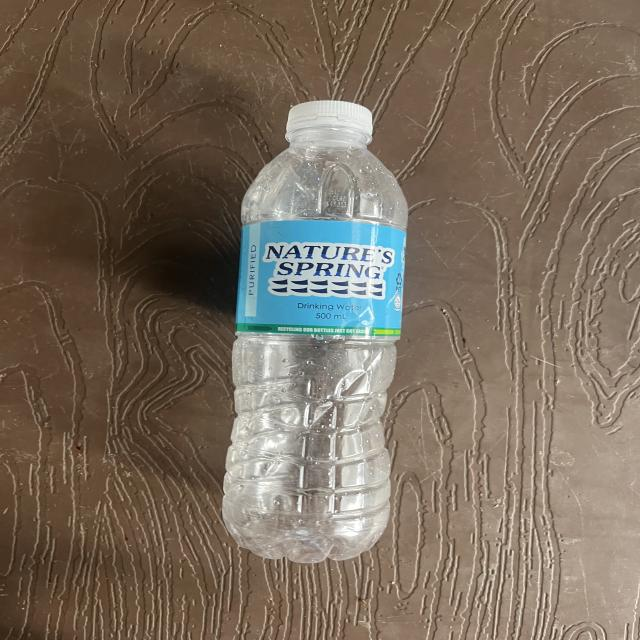REJECT: (210, 104, 587, 570)
